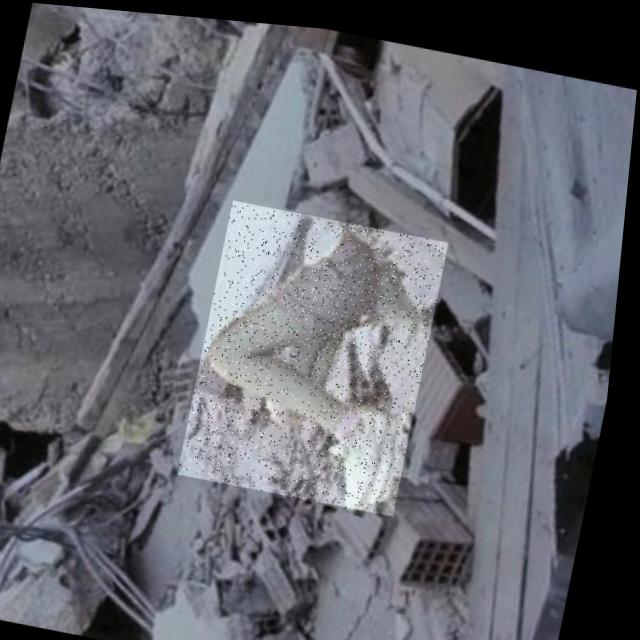Person in Rubble: (184, 192, 454, 509)
